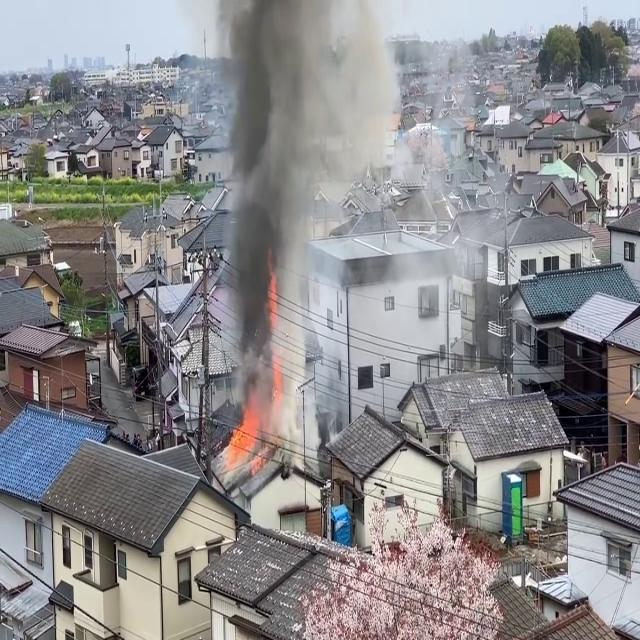Fire: (222, 406, 264, 474)
Smoke: (212, 1, 378, 440)
